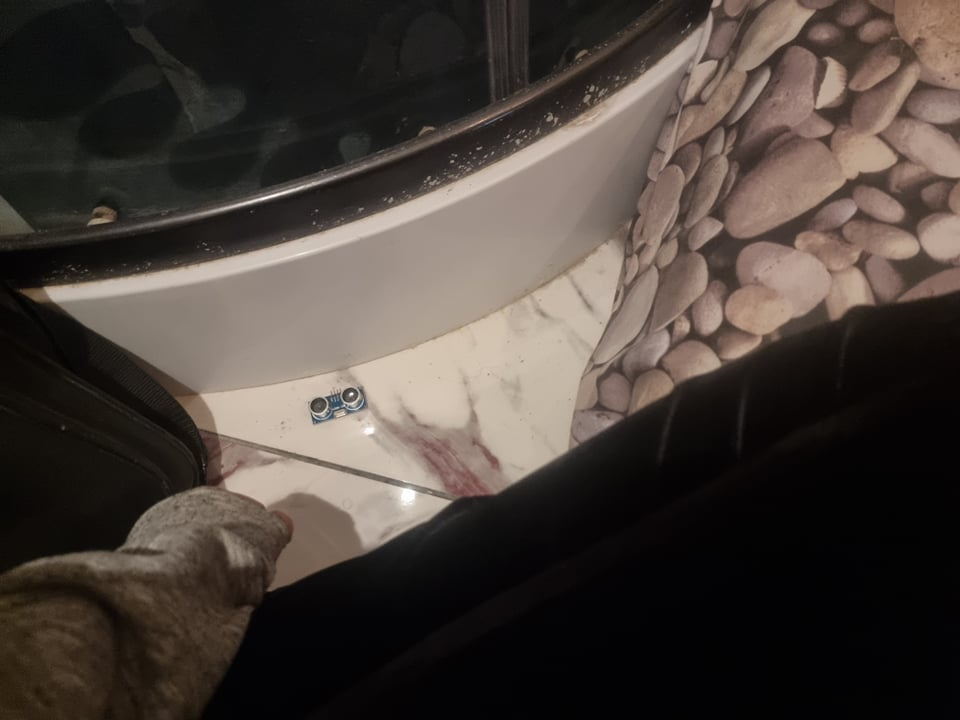SENSOR: (307, 386, 363, 420)
